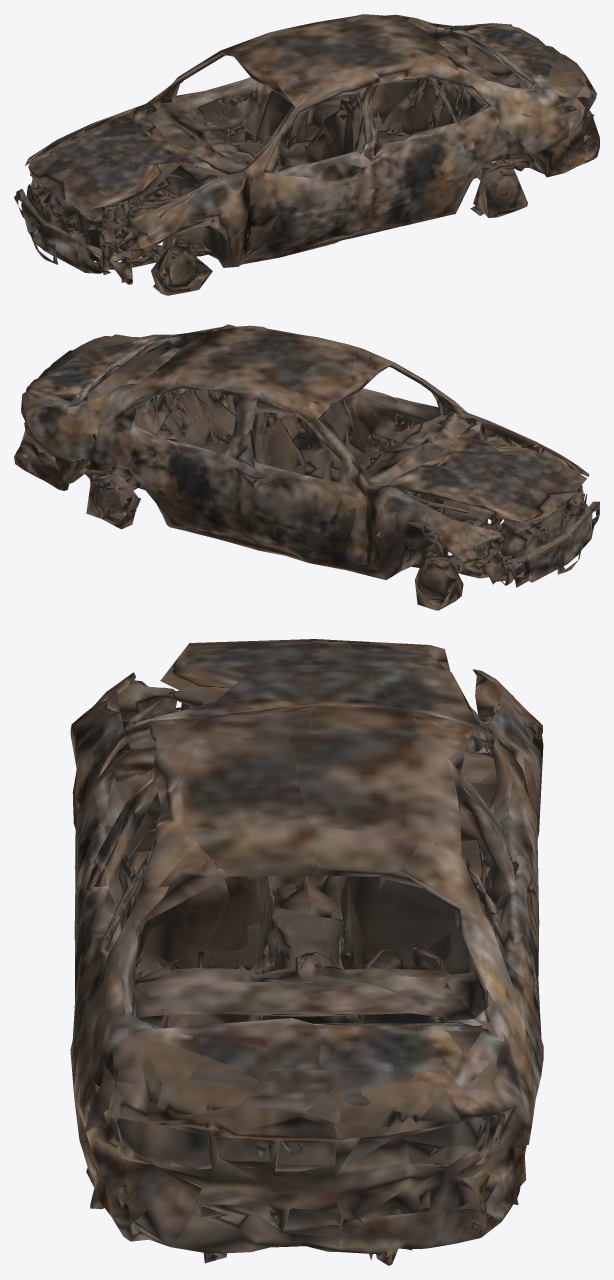
The model's file is burned_car_low.glb.
3 renders of one model, top to bottom at view 1: azimuth 30°, elevation 25°; view 2: azimuth 150°, elevation 25°; view 3: azimuth 270°, elevation 25°, orthographic. The views are drawn at different scales.
Bounding box in the file's own units: 1.9 × 0.5507 × 0.7387.
Materials: 1 (1 with a texture image).
